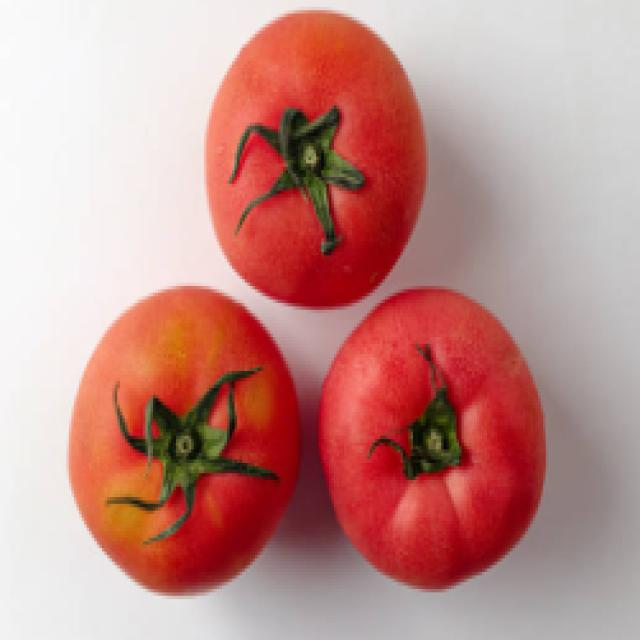Tomato: (318, 279, 546, 610), (187, 14, 441, 311), (53, 298, 298, 587)
